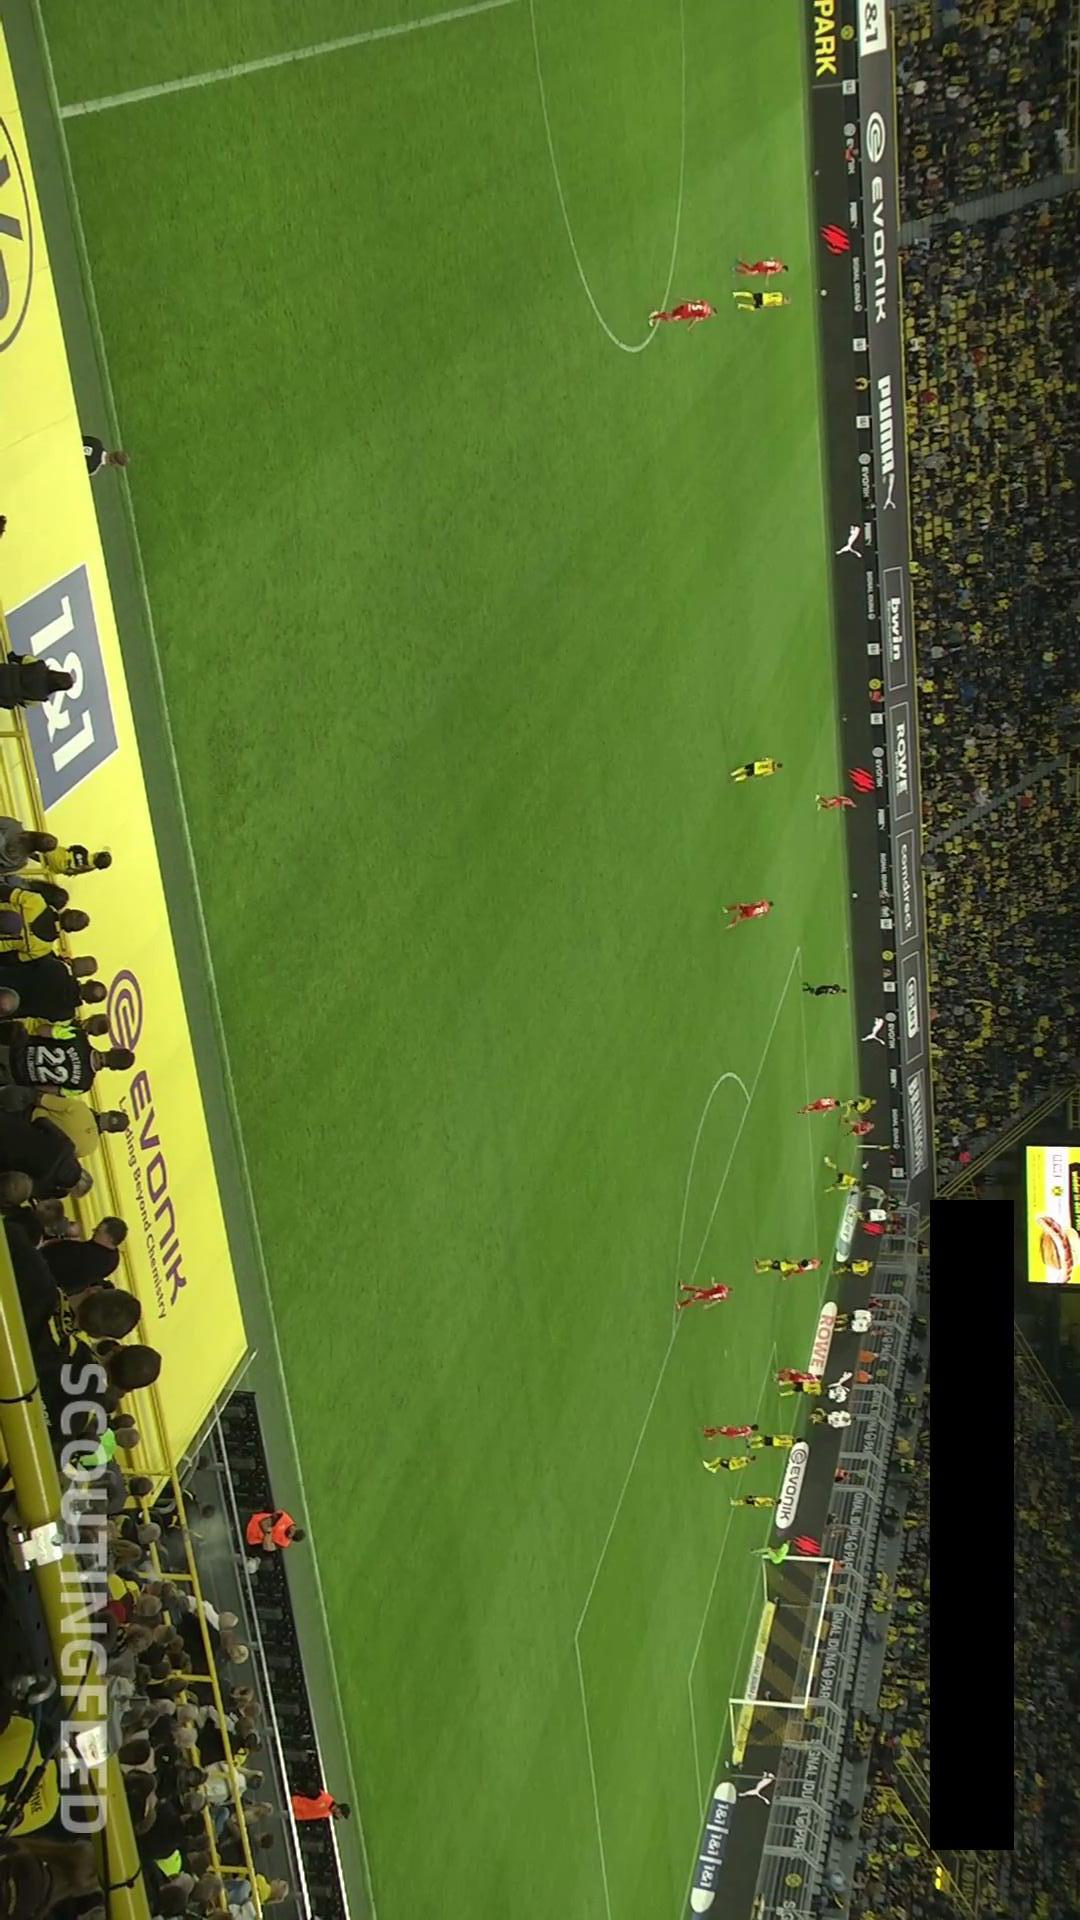ball: (820, 1155, 832, 1166)
goalkeeper: (748, 1538, 794, 1566)
player: (648, 299, 719, 333), (675, 1278, 734, 1310), (722, 898, 775, 931), (729, 757, 785, 784), (823, 1162, 862, 1195), (779, 1254, 826, 1281), (733, 290, 792, 311), (733, 257, 790, 278), (837, 1093, 877, 1120), (702, 1454, 757, 1473), (754, 1258, 809, 1276), (702, 1423, 760, 1440), (747, 1433, 798, 1451), (797, 1096, 842, 1116), (774, 1367, 822, 1385), (777, 1381, 826, 1398), (730, 1494, 780, 1510), (840, 1116, 876, 1138), (815, 794, 858, 811)
referee: (803, 982, 848, 997)
